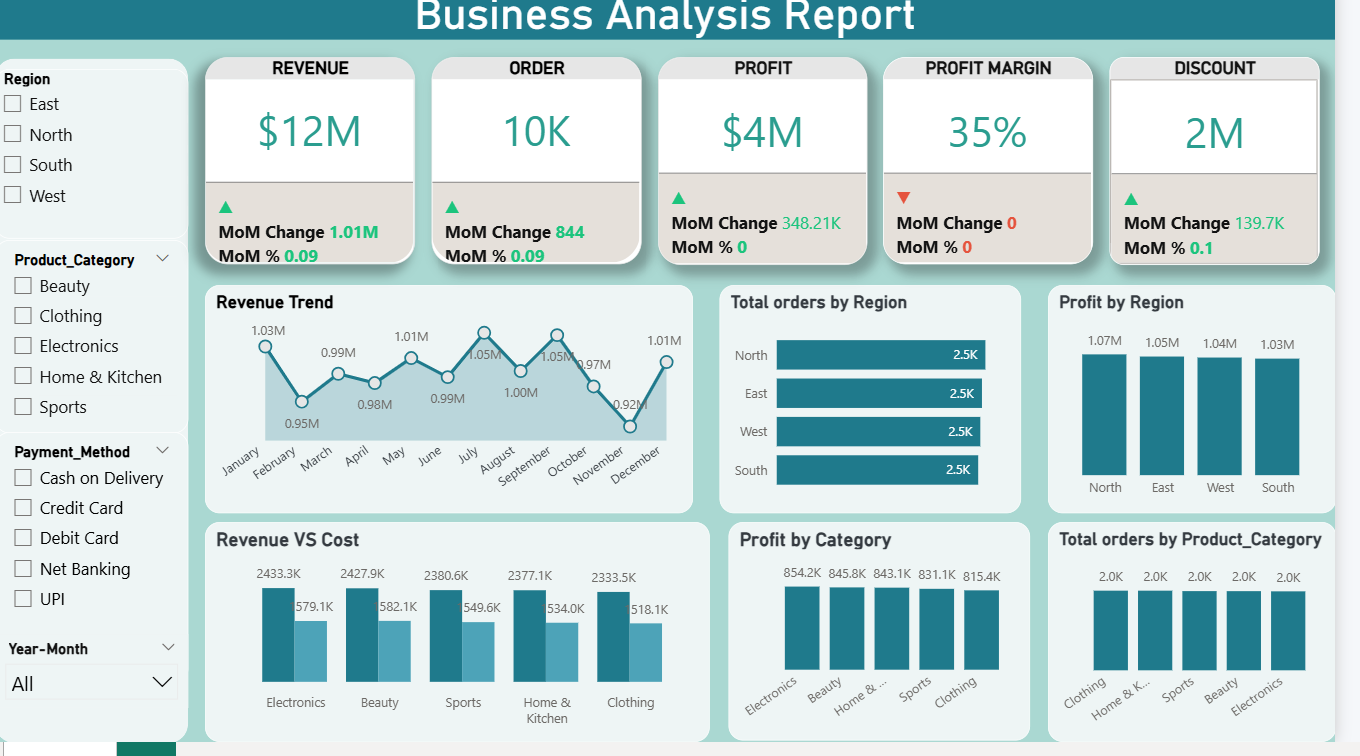

Layout of this report page (visuals, bound fields, positions):
{"tool":"powerbi","page":{"name":"Page 1","canvas":[1280,720],"ordinal":0},"visuals":[{"type":"shape","box":[0,66.8,184.5,653.7],"z":0},{"type":"shape","title":"Business Analysis Report","box":[0,0,1280.4,49.3],"z":1000},{"type":"slicer","fields":{"Values":["Business_Analytics_Dataset_10000_Rows.Region"]},"box":[0,77.9,184.5,162.2],"z":2000},{"type":"slicer","fields":{"Values":["Business_Analytics_Dataset_10000_Rows.Product_Category"]},"box":[0,240.2,184.5,184.5],"z":3000},{"type":"slicer","fields":{"Values":["Business_Analytics_Dataset_10000_Rows.Payment_Method"]},"box":[0,424.7,184.5,240.2],"z":4000},{"type":"lineChart","title":"Revenue Trend","fields":{"Category":["Date Table.Month Name"],"Y":["Analysis.Revenue Amount"]},"box":[200.4,283.1,466,217.9],"z":5000},{"type":"clusteredBarChart","fields":{"Category":["Business_Analytics_Dataset_10000_Rows.Region"],"Y":["Analysis.Orders"]},"box":[691.9,283.1,287.9,217.9],"z":6000},{"type":"clusteredColumnChart","title":"Profit by Region","fields":{"Y":["Analysis.Total Profit"],"Category":["Business_Analytics_Dataset_10000_Rows.Region"]},"box":[1004.8,283.1,275.2,217.9],"z":7000},{"type":"clusteredColumnChart","title":"Revenue VS Cost","fields":{"Category":["Business_Analytics_Dataset_10000_Rows.Product_Category"],"Y":["Analysis.Revenue Amount","Sum(Business_Analytics_Dataset_10000_Rows.Cost)"]},"box":[200.4,510,482,210],"z":8000},{"type":"clusteredColumnChart","title":"Profit by Category","fields":{"Category":["Business_Analytics_Dataset_10000_Rows.Product_Category"],"Y":["Analysis.Total Profit"]},"box":[699.9,510.6,287.9,208.4],"z":9000},{"type":"clusteredColumnChart","fields":{"Category":["Business_Analytics_Dataset_10000_Rows.Product_Category"],"Y":["Analysis.Orders"]},"box":[1004.8,510,275.2,210],"z":10000},{"type":"cardVisual","title":"REVENUE","fields":{"Data":["Analysis.Total Revenue"]},"box":[200.4,65.2,200.4,198],"z":11000},{"type":"cardVisual","title":"ORDER","fields":{"Data":["Analysis.Total orders"]},"box":[416.4,65.2,200.4,198],"z":12000},{"type":"cardVisual","title":"PROFIT","fields":{"Data":["Analysis.Total Profit"]},"box":[632.5,65.2,200,198.8],"z":13000},{"type":"cardVisual","title":"PROFIT MARGIN","fields":{"Data":["Analysis.Profit Margin"]},"box":[848.1,65.2,200.4,198],"z":14000},{"type":"cardVisual","title":"DISCOUNT","fields":{"Data":["Analysis.Total Discount"]},"box":[1064.1,65.2,200.4,198.8],"z":15000},{"type":"slicer","fields":{"Values":["Date Table.Year-Month"]},"box":[0,617.2,184.5,70],"z":16000}]}

Visuals, with their boxes in screenshot pixels (x1, y1, x2, y2), scaled from the page's 1280x720 canvas onto the 1360x756 screenshot:
shape: x1=0, y1=70, x2=196, y2=755
"Business Analysis Report" shape: x1=0, y1=0, x2=1359, y2=52
slicer - Business_Analytics_Dataset_10000_Rows.Region: x1=0, y1=82, x2=196, y2=252
slicer - Business_Analytics_Dataset_10000_Rows.Product_Category: x1=0, y1=252, x2=196, y2=446
slicer - Business_Analytics_Dataset_10000_Rows.Payment_Method: x1=0, y1=446, x2=196, y2=698
"Revenue Trend" lineChart: x1=213, y1=297, x2=708, y2=526
clusteredBarChart - Business_Analytics_Dataset_10000_Rows.Region x Analysis.Orders: x1=735, y1=297, x2=1041, y2=526
"Profit by Region" clusteredColumnChart: x1=1068, y1=297, x2=1359, y2=526
"Revenue VS Cost" clusteredColumnChart: x1=213, y1=536, x2=725, y2=755
"Profit by Category" clusteredColumnChart: x1=744, y1=536, x2=1050, y2=755
clusteredColumnChart - Business_Analytics_Dataset_10000_Rows.Product_Category x Analysis.Orders: x1=1068, y1=536, x2=1359, y2=755
"REVENUE" cardVisual: x1=213, y1=68, x2=426, y2=276
"ORDER" cardVisual: x1=442, y1=68, x2=655, y2=276
"PROFIT" cardVisual: x1=672, y1=68, x2=885, y2=277
"PROFIT MARGIN" cardVisual: x1=901, y1=68, x2=1114, y2=276
"DISCOUNT" cardVisual: x1=1131, y1=68, x2=1344, y2=277
slicer - Date Table.Year-Month: x1=0, y1=648, x2=196, y2=722
